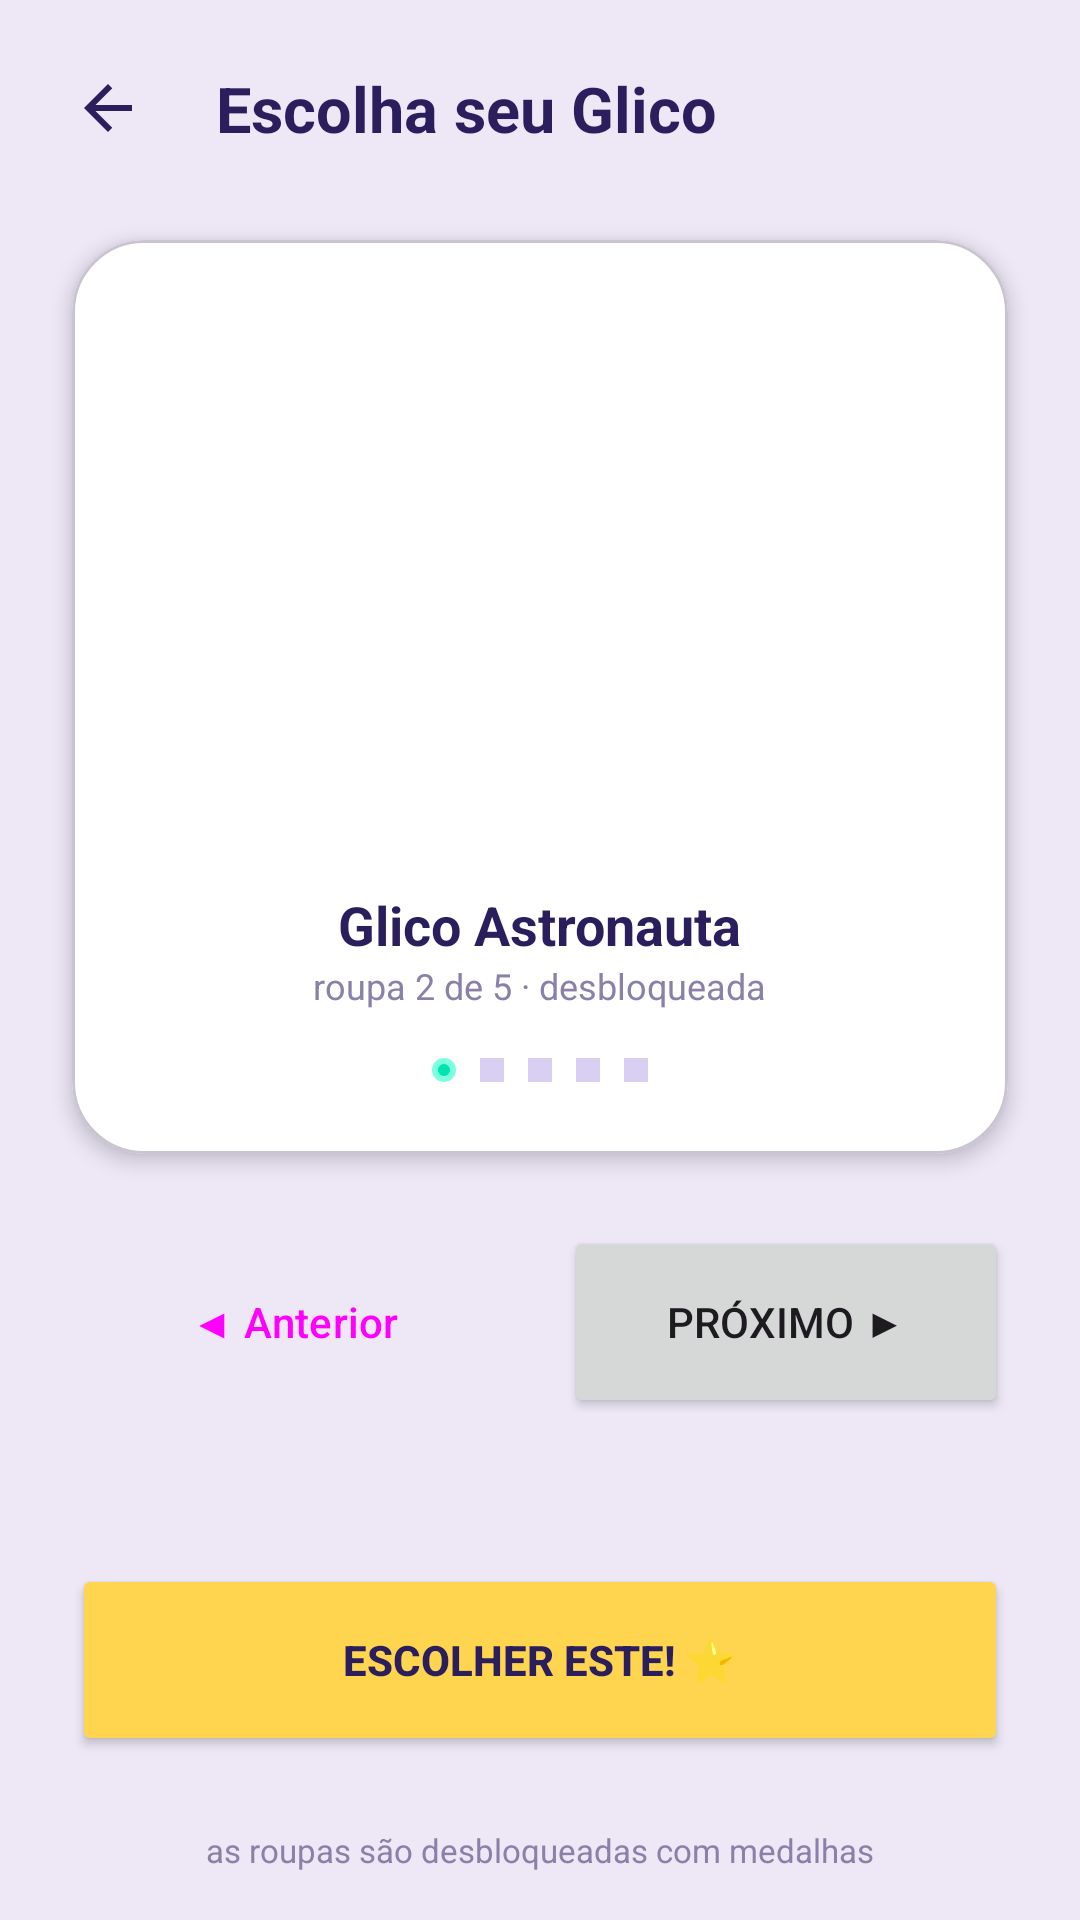

Screen size 1080×1920. Icon name, then its box in pixels as bbox=(x1, y1, x2, y2):
Back: bbox=(84, 84, 132, 132)
